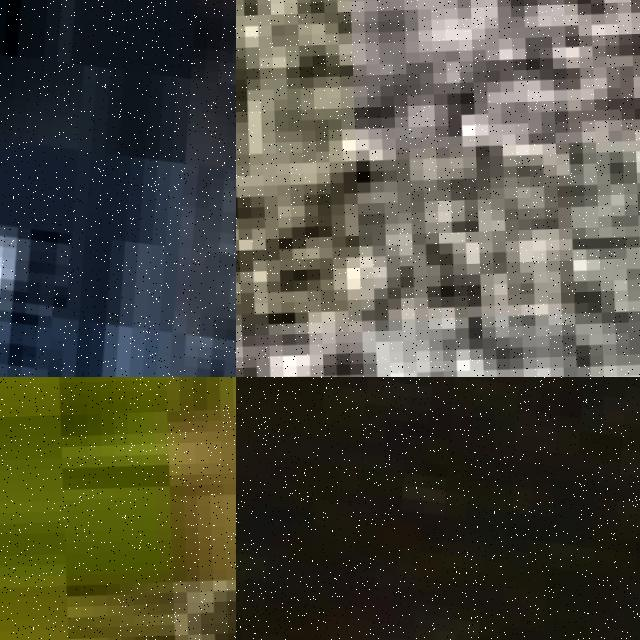0: (0, 0, 236, 377)
drone: (236, 377, 640, 640)
